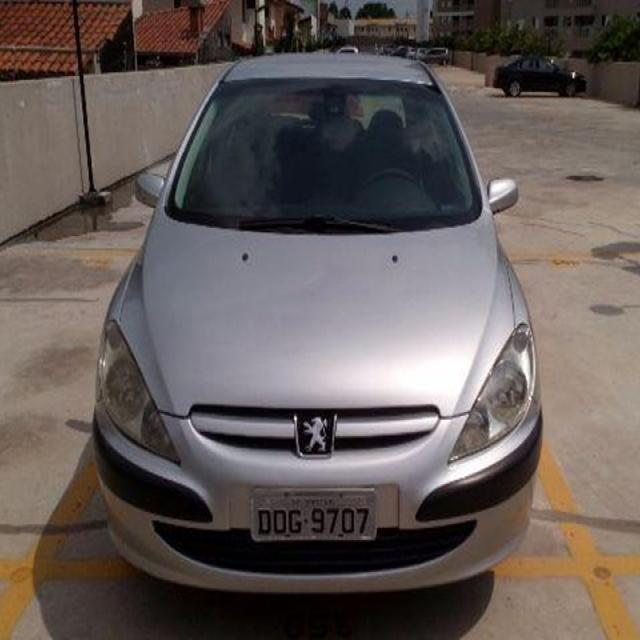Placa: (248, 485, 381, 544)
